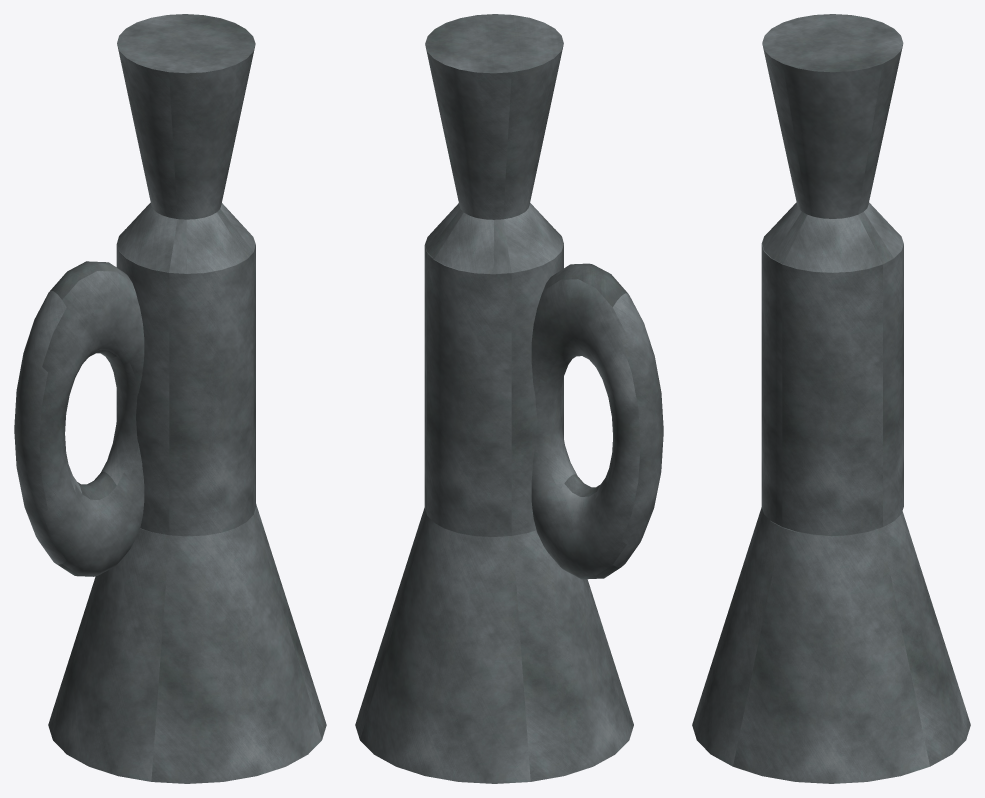
The model's file is bugle-concept-1.fbx.
3 renders of one model, left to right at view 1: azimuth 30°, elevation 25°; view 2: azimuth 150°, elevation 25°; view 3: azimuth 270°, elevation 25°, orthographic.
Visible parts, largest first — view 1: cylinder_taper% (×3), cylinder, torus%; view 2: cylinder_taper% (×3), cylinder, torus%; view 3: cylinder_taper% (×3), cylinder.
Part boxes in pixels (x1=…): cylinder_taper% (×3): x1=48, y1=14, x2=326, y2=783; cylinder: x1=116, y1=229, x2=255, y2=536; torus%: x1=14, y1=261, x2=144, y2=576; cylinder_taper% (×3): x1=355, y1=14, x2=633, y2=783; cylinder: x1=424, y1=229, x2=563, y2=536; torus%: x1=531, y1=263, x2=663, y2=579; cylinder_taper% (×3): x1=692, y1=14, x2=970, y2=783; cylinder: x1=761, y1=234, x2=903, y2=535.
Bounding box in the file's own units: 11.9 × 26.98 × 10.
Materials: 1 (1 with a texture image).
